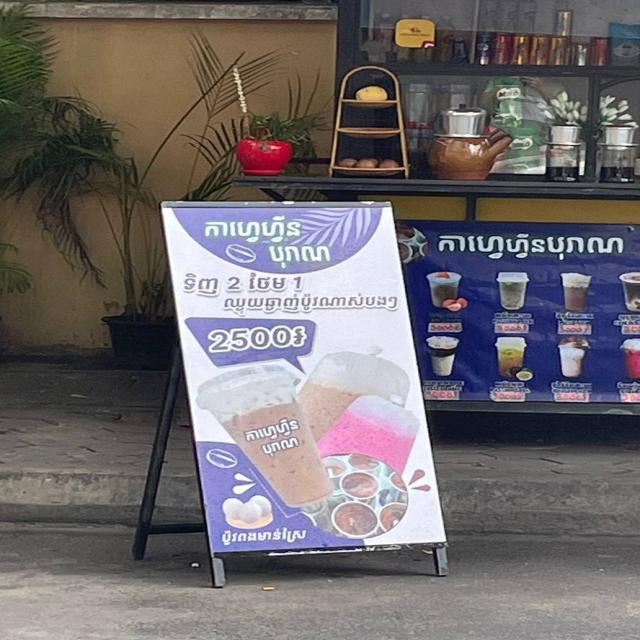46: (173, 269, 310, 301)
682: (206, 323, 312, 355)
Yolov11_80vkh: (432, 225, 631, 263), (217, 291, 406, 319), (197, 213, 306, 243), (213, 524, 316, 553), (239, 414, 301, 446), (265, 243, 336, 270), (255, 433, 308, 463)
